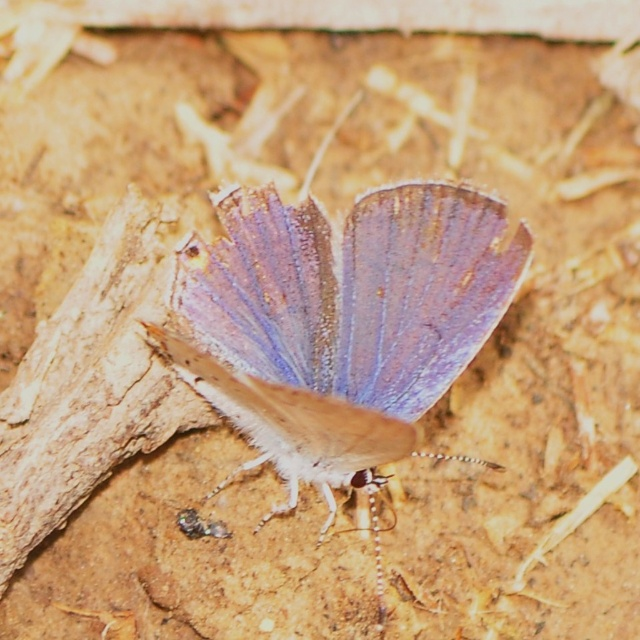Butterfly: (134, 183, 536, 632)
